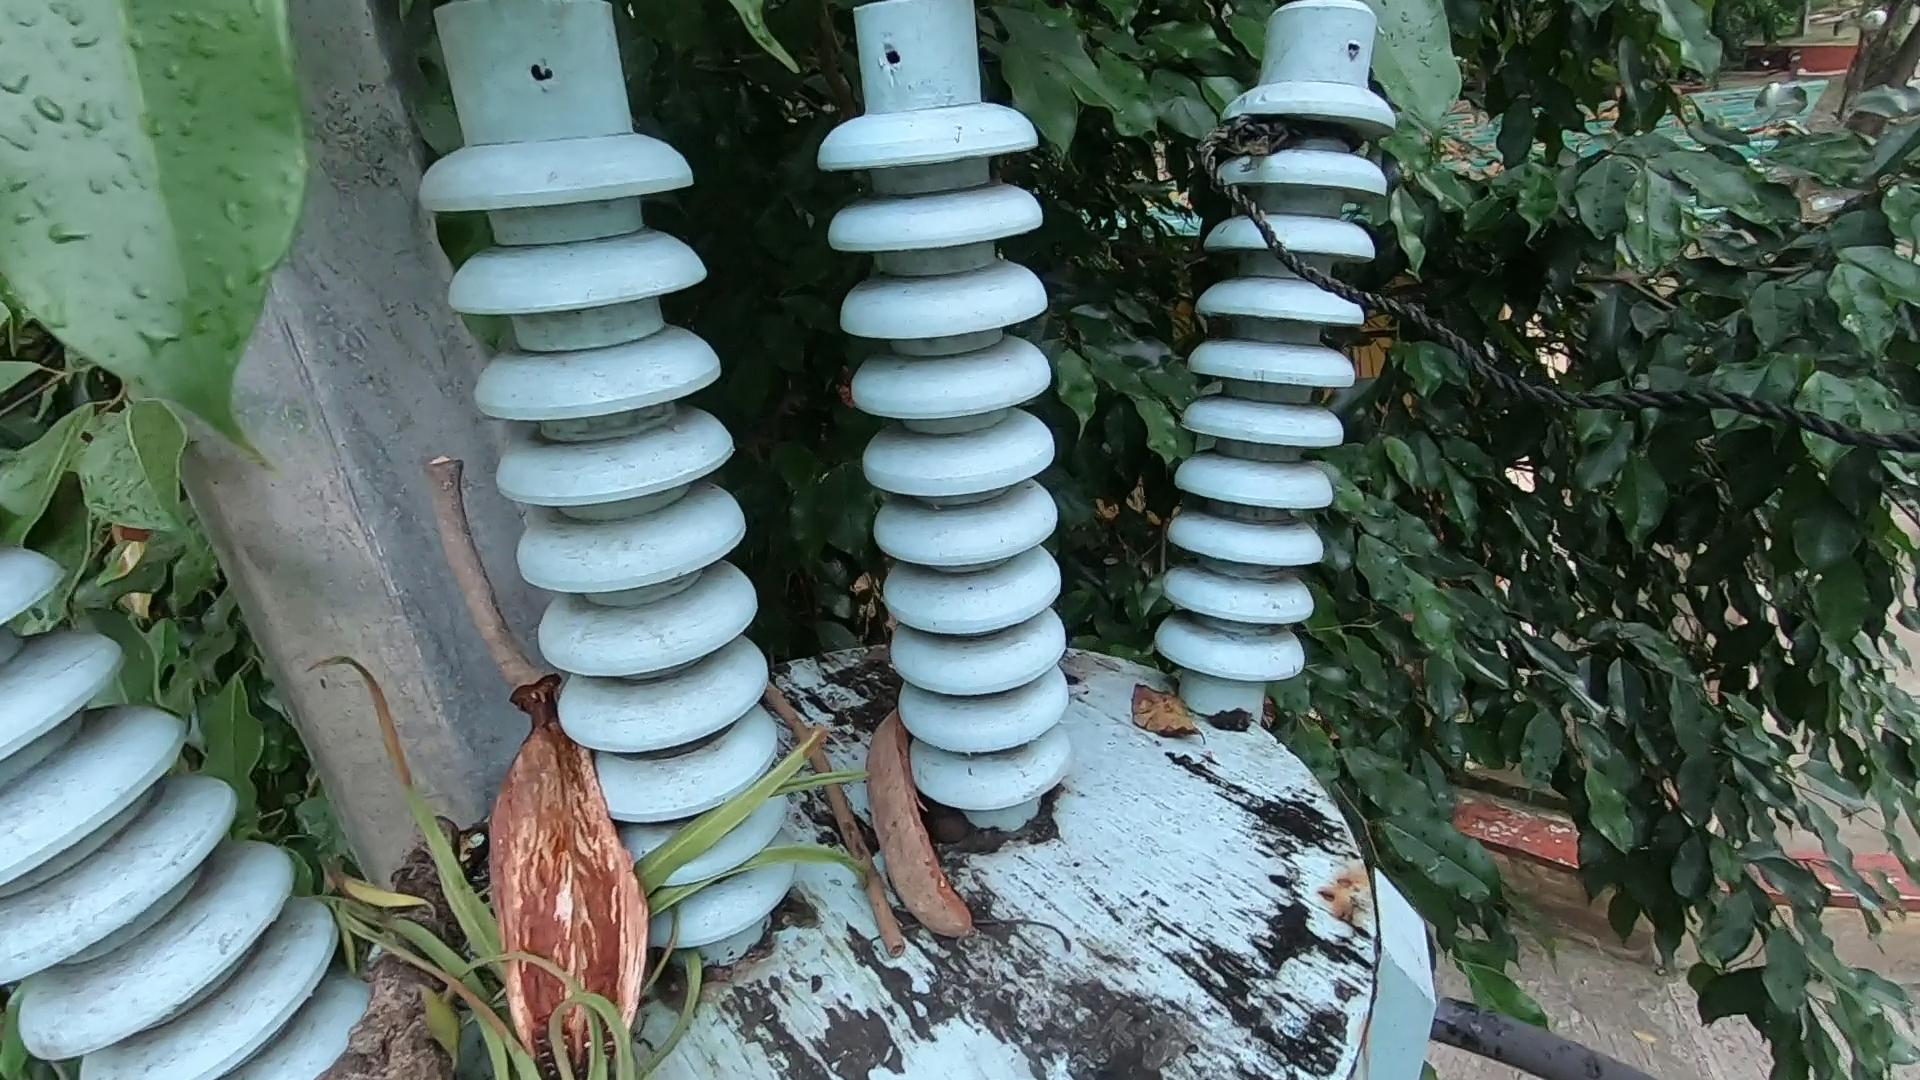branch with leaves: (322, 757, 702, 1077)
leaf: (1114, 674, 1228, 761)
mahogany fruit: (460, 707, 628, 990), (855, 694, 967, 940)
tree branch: (429, 421, 558, 742), (779, 680, 905, 994)
